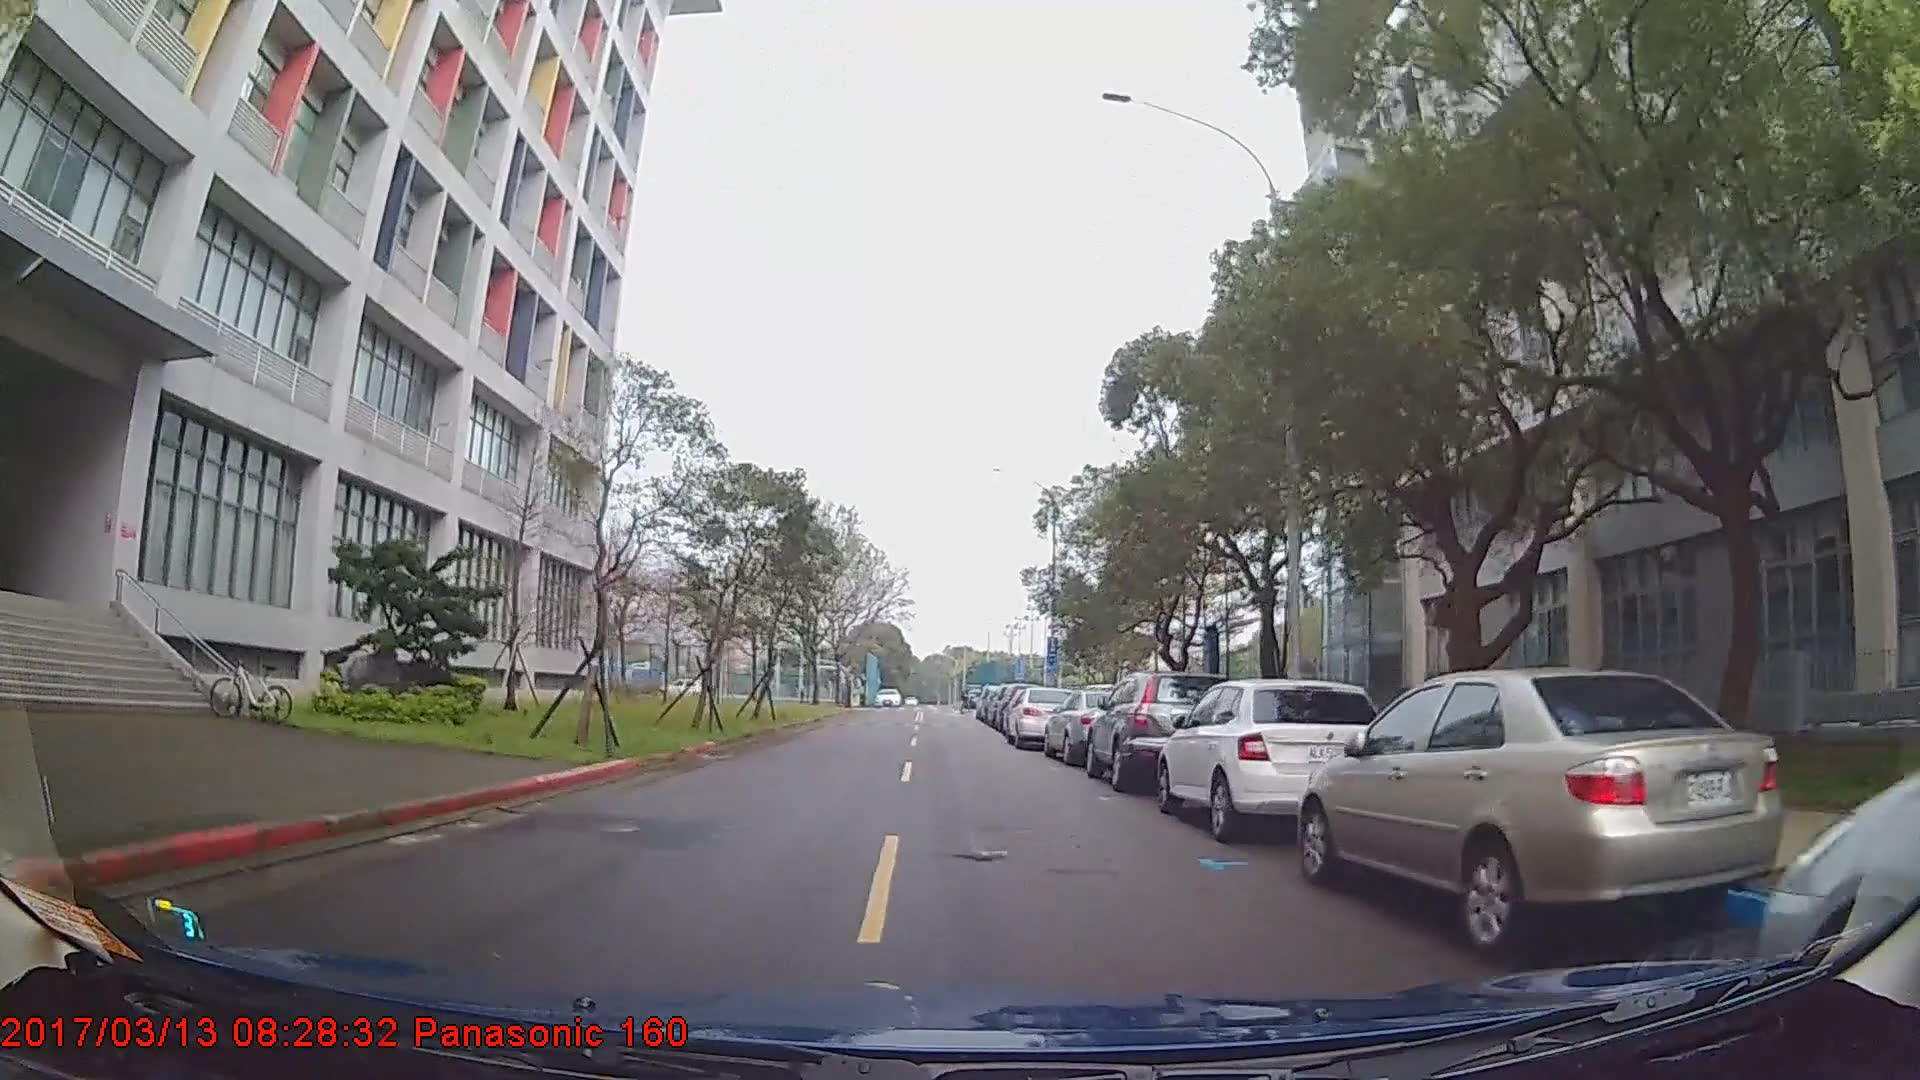vehicle: (1300, 666, 1792, 959), (1156, 678, 1389, 840), (1083, 670, 1238, 793), (1042, 686, 1139, 766), (1004, 684, 1077, 749)
